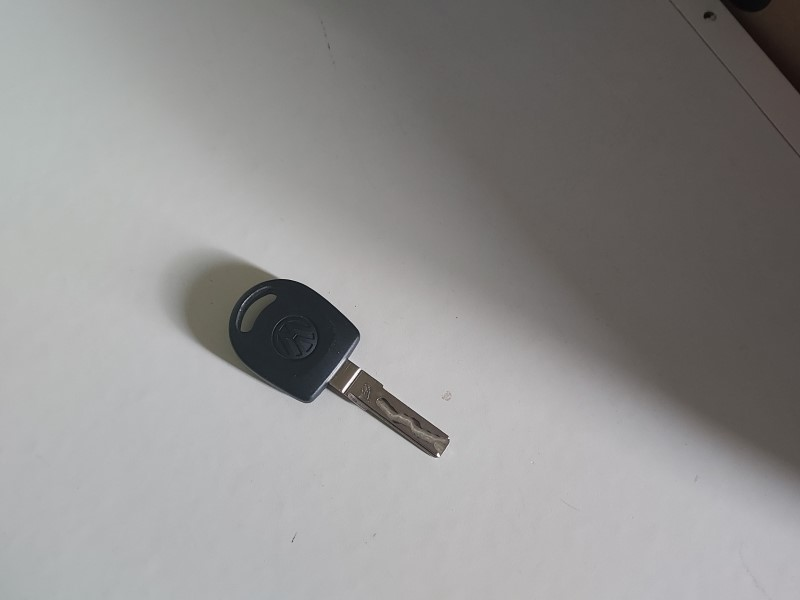key: (227, 268, 450, 464)
